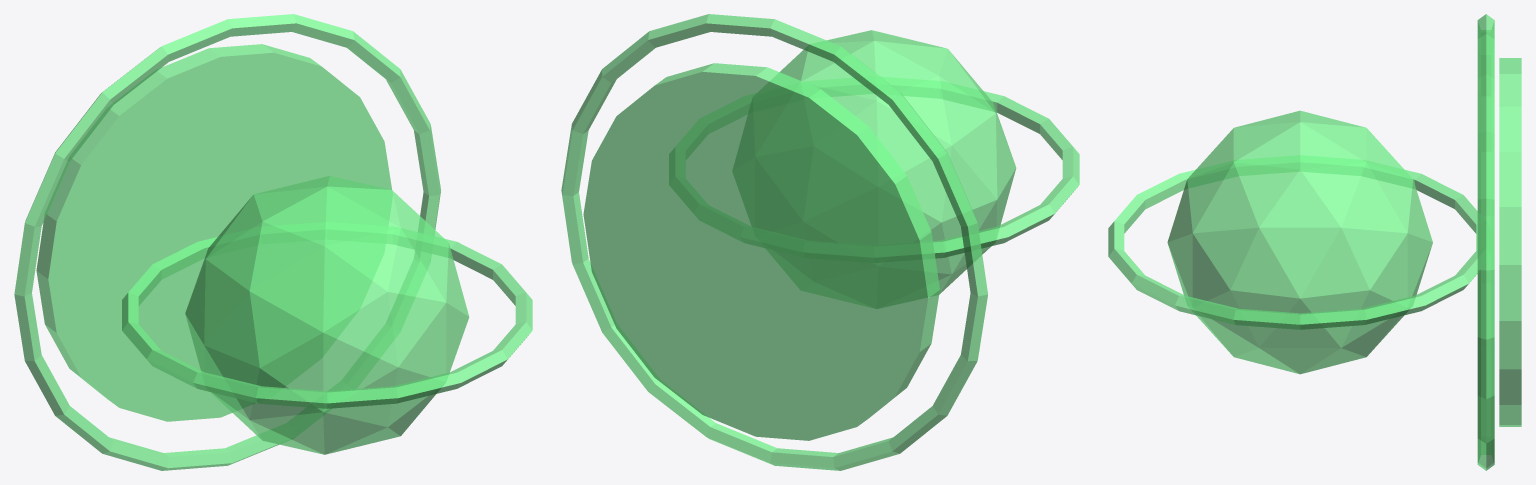
File: 11_acid_glob_projectile.glb
The picture shows the model from 3 angles, left to right: view 1: azimuth 30°, elevation 25°; view 2: azimuth 150°, elevation 25°; view 3: azimuth 270°, elevation 25°; orthographic projection. The views are drawn at different scales.
Visible parts, largest first — view 1: base_disc, projectile_core, base_ring, spin_ring; view 2: base_disc, projectile_core, base_ring, spin_ring; view 3: projectile_core, spin_ring, base_disc, base_ring.
Part boxes in pixels (x1,y1,x2,y2): base_disc: [36, 44, 392, 421]; projectile_core: [185, 176, 469, 454]; base_ring: [14, 14, 440, 470]; spin_ring: [122, 222, 532, 408]; base_disc: [583, 63, 939, 440]; projectile_core: [733, 30, 1016, 308]; base_ring: [561, 14, 987, 470]; spin_ring: [669, 77, 1079, 262]; projectile_core: [1167, 110, 1432, 374]; spin_ring: [1108, 155, 1491, 329]; base_disc: [1499, 58, 1521, 426]; base_ring: [1477, 14, 1494, 470].
Size of the model in its own units: 1.04 by 1.04 by 0.9333.
